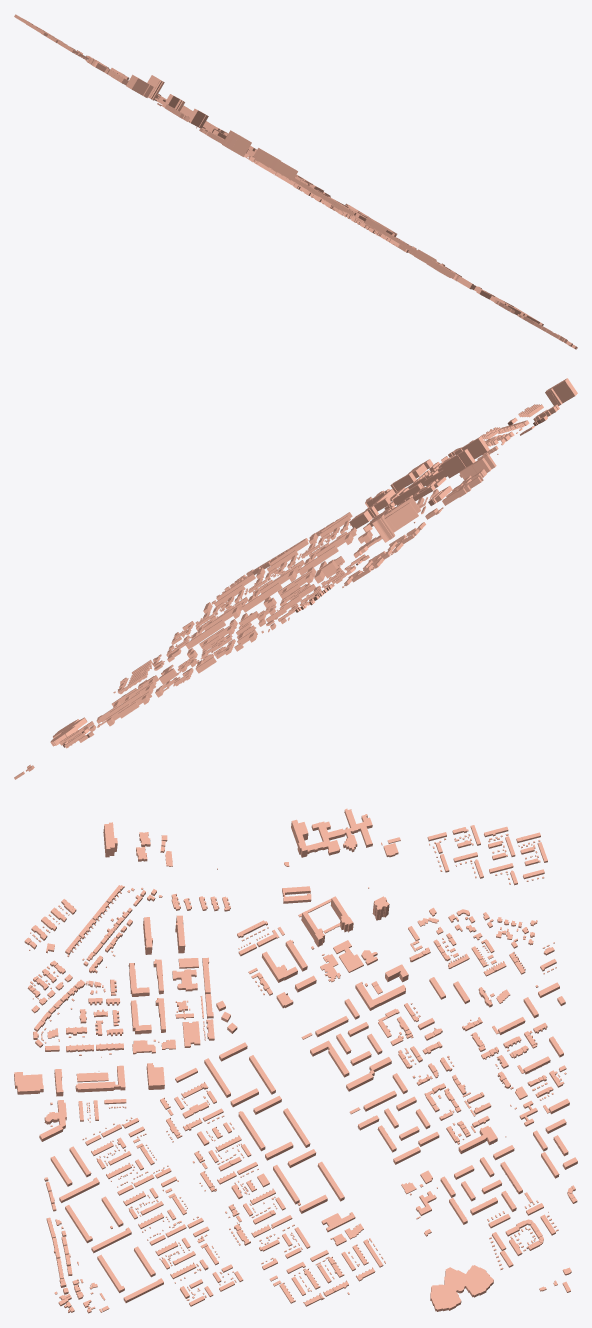
3 views of the same model, one above another, from view 1: azimuth 30°, elevation 25°; view 2: azimuth 150°, elevation 25°; view 3: azimuth 270°, elevation 25° (orthographic). The views are drawn at different scales.
Size of the model in its own units: 1040 by 804 by 1277.
